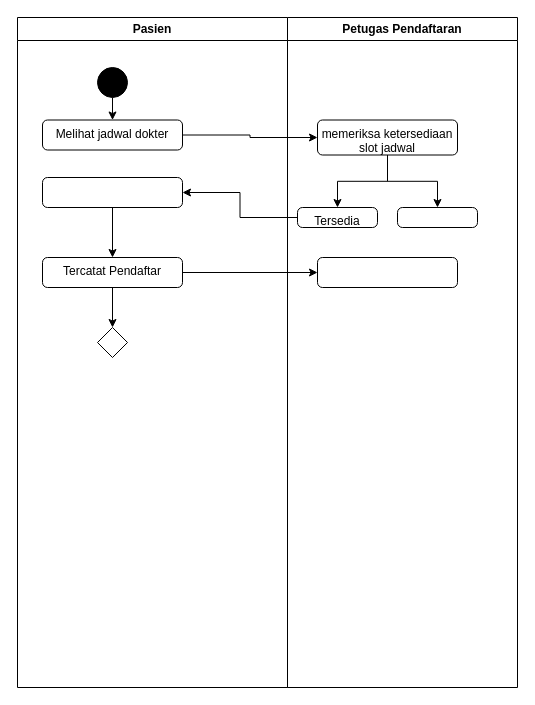
The diagram is 535 pixels wide and 705 high, and some of its shapes have lost their labels. The centre of each missing label's shape, as x and y in pixels:
"Mendaftar berobat" belongs at (112,192).
"Tidak tersedia" belongs at (437,217).
"Validasi slot tersedia" belongs at (387,272).
